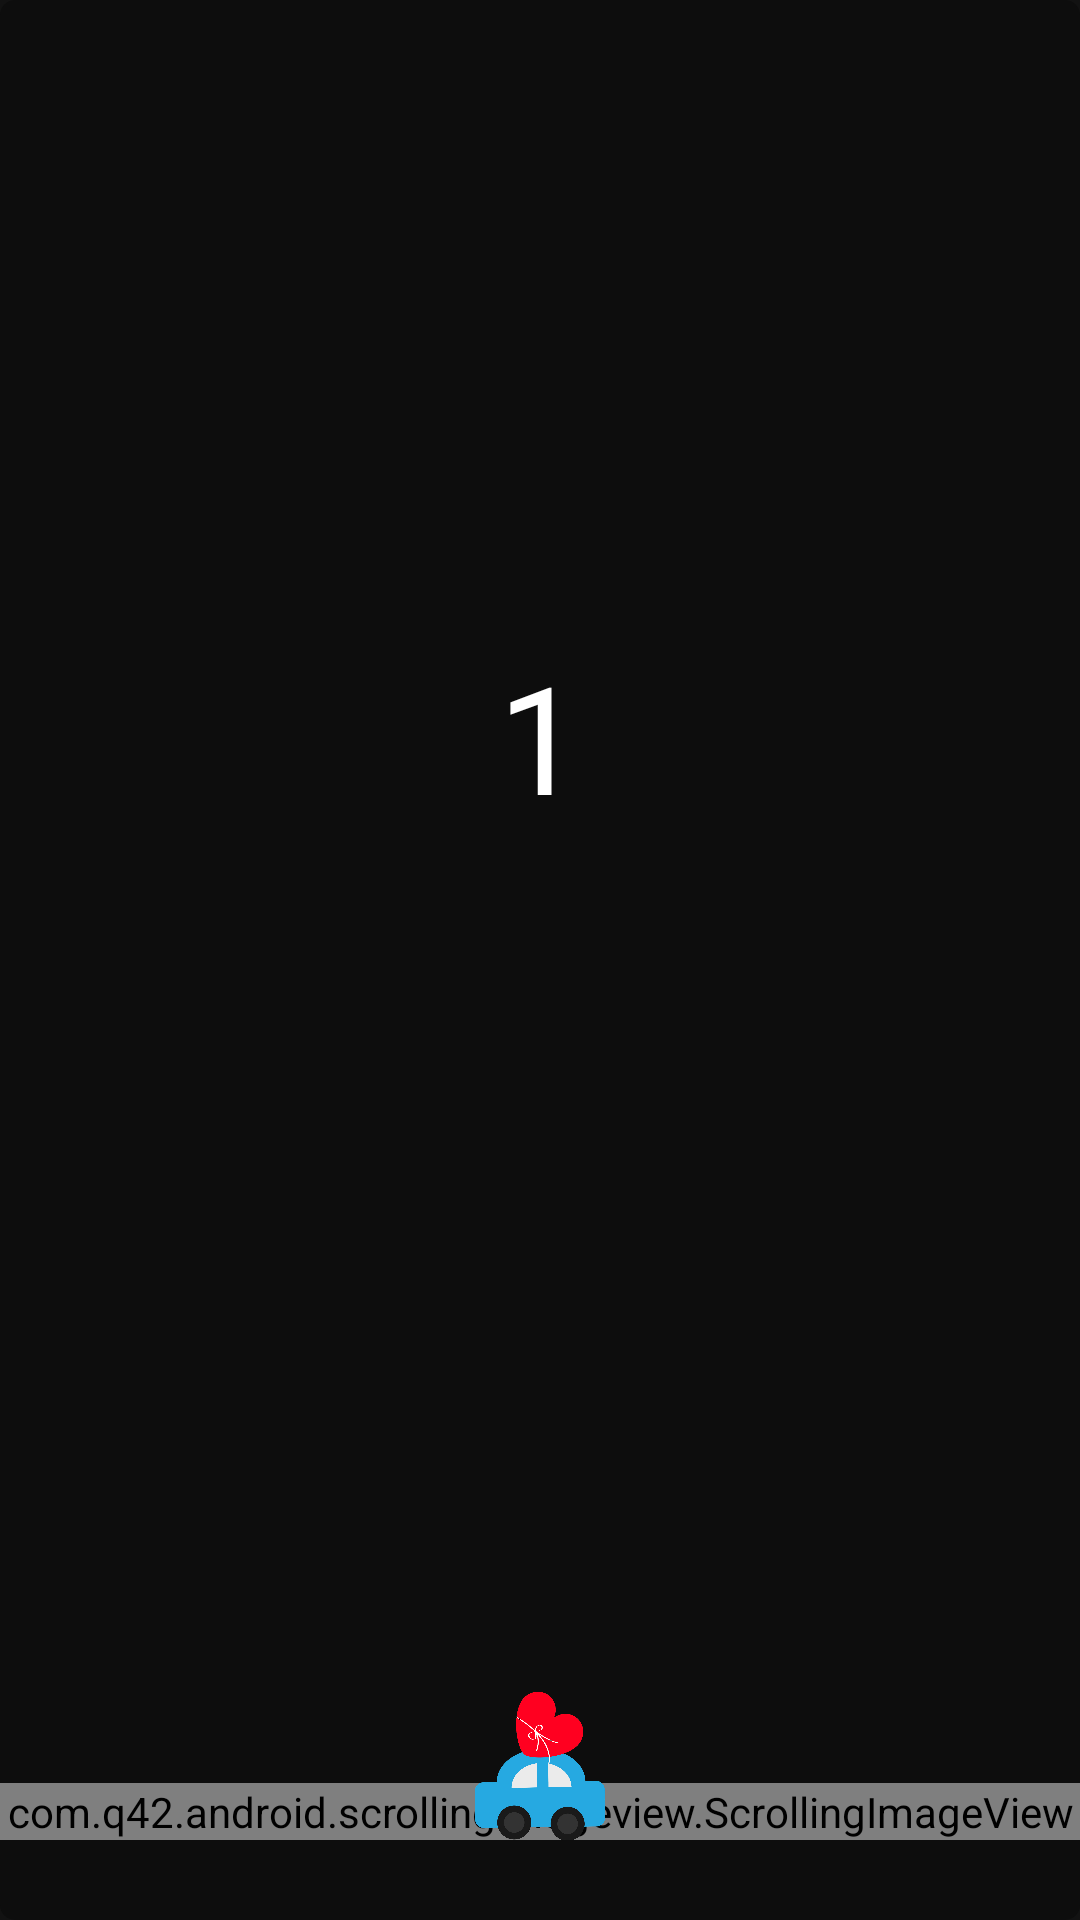

Screen size 1080px x 1920px. Icon name, then its box in pixels as (x1, y1, x2, y2):
lovecar: (450, 1692, 630, 1840)
